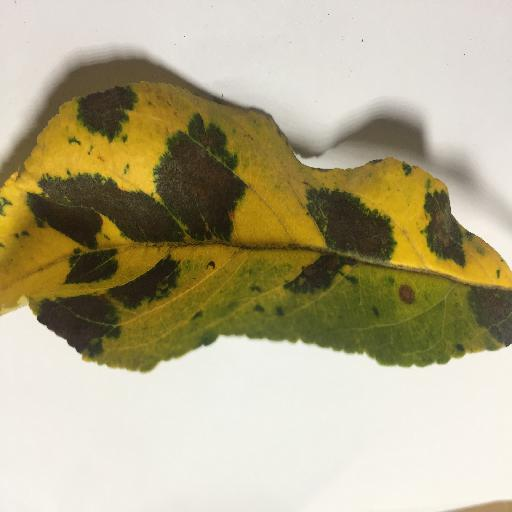Brown_Spot: (20, 170, 165, 243), (156, 141, 239, 249), (314, 185, 389, 251), (423, 195, 468, 259), (75, 101, 127, 139), (394, 282, 417, 302)
